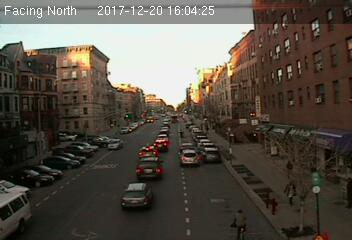bicycle: (233, 206, 249, 240)
car: (121, 181, 155, 209), (135, 155, 164, 179), (179, 149, 201, 167), (137, 144, 157, 159), (202, 147, 221, 162), (106, 138, 124, 150), (154, 140, 168, 150)
